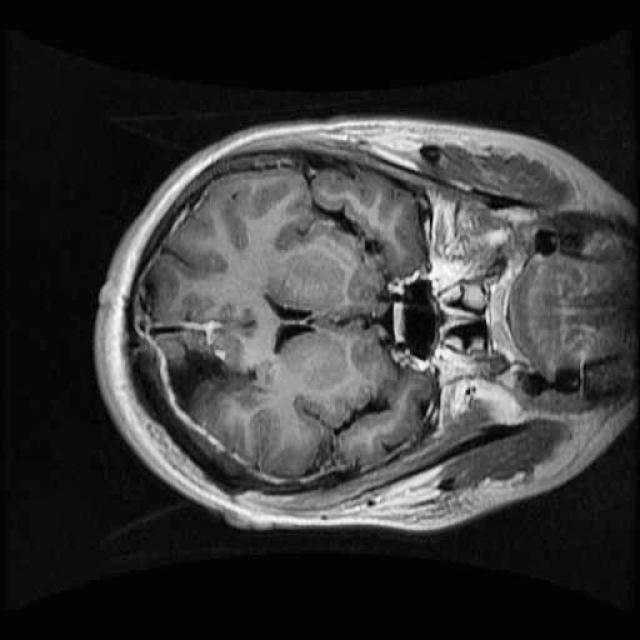Tumor: (150, 324, 255, 426)
